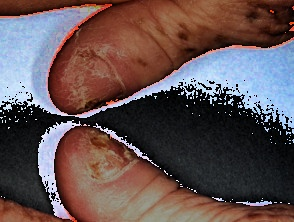Nail_psoriasis: (37, 31, 132, 127), (62, 107, 144, 191)
